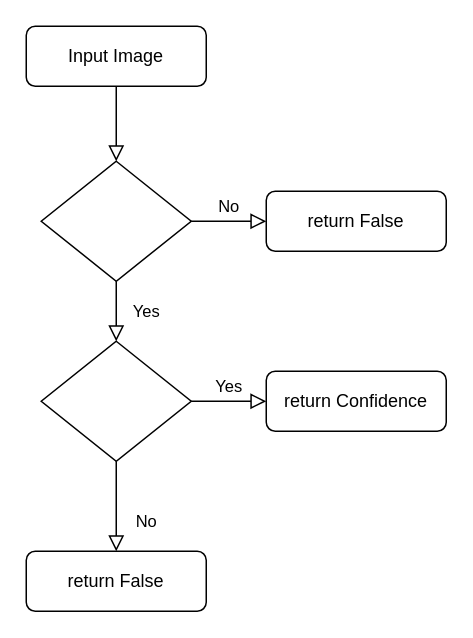
Image size: 473x638. Some labels were removed from this diagram. Here are the shapes that lost their labels. From the top down, the centre of each, then its label:
the point at 115,220: YOLO Person Detect
the point at 115,400: For each person Mask Detect
